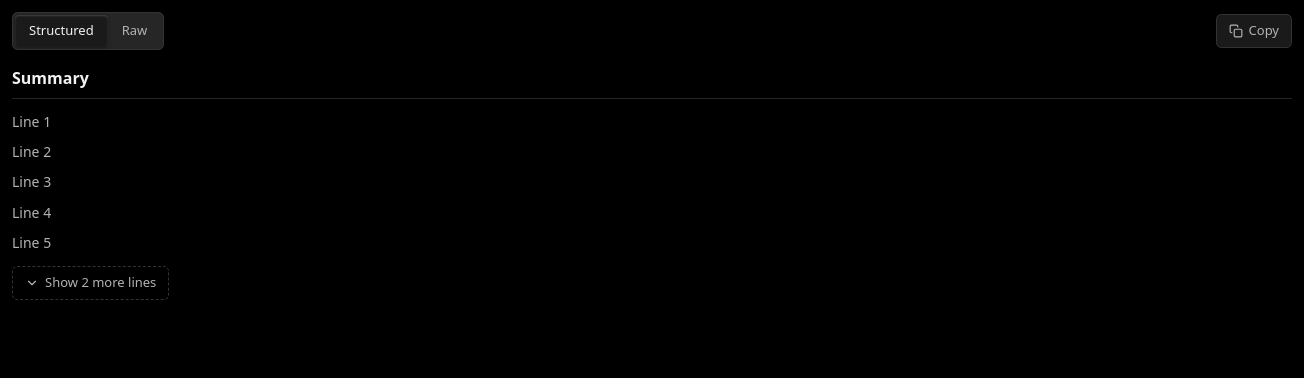
Test: StructuredDescription › expands long sections when clicked
The width and height of the screenshot is (1304, 378).
What coordinates should you click on to do the following:
click the button "Show 2 more lines"
I would click on:
 (91, 283)
Its box is [12,266,169,300].
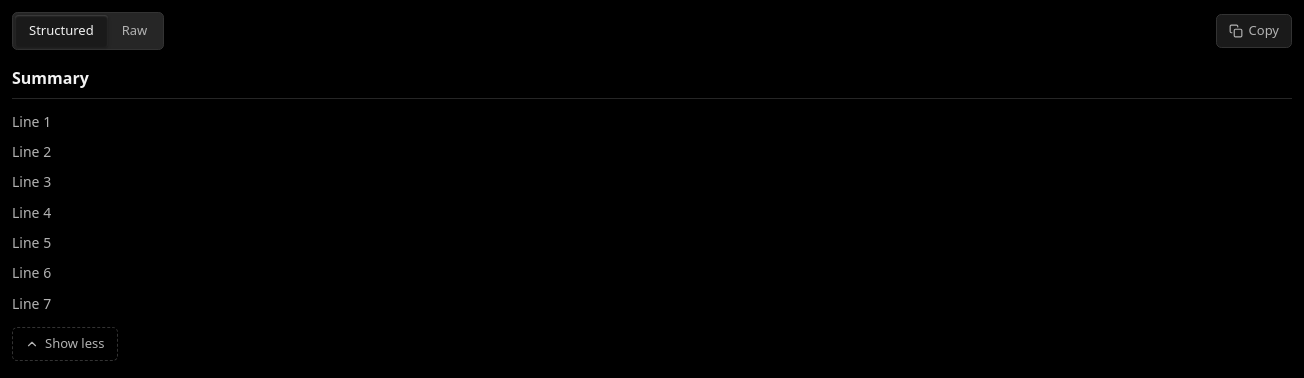
Check: the button "Show less" is shown, box [12,327,118,361]
